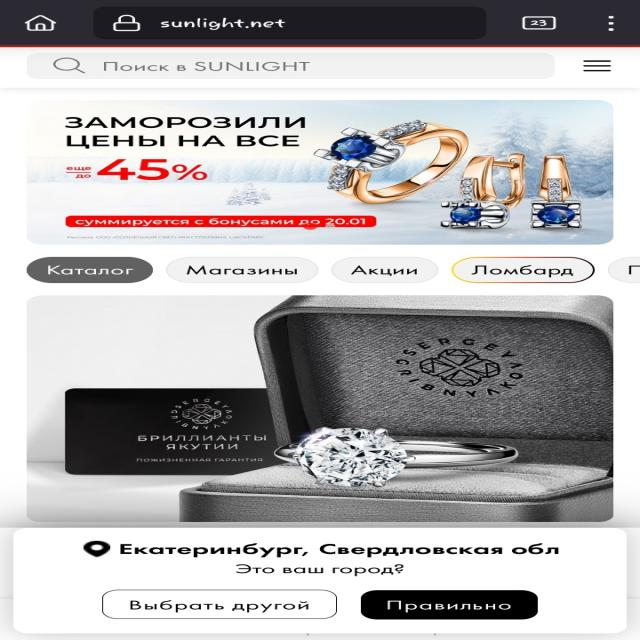button: (102, 590, 340, 619), (361, 590, 539, 619)
site: (12, 528, 630, 634)
